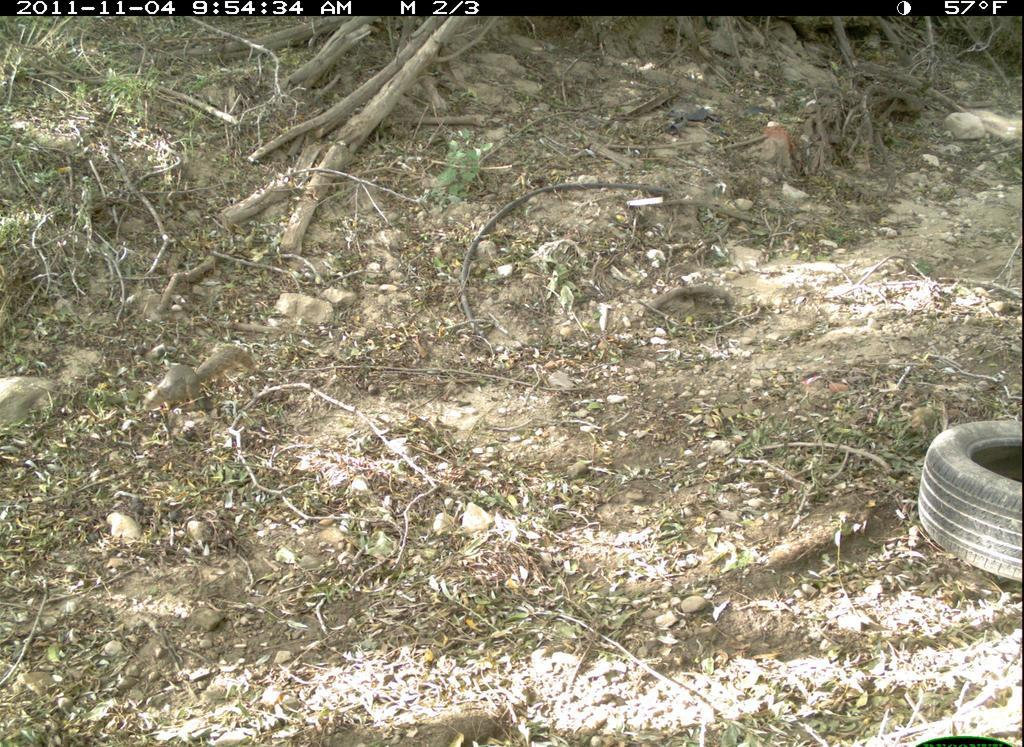squirrel: (143, 340, 260, 419)
